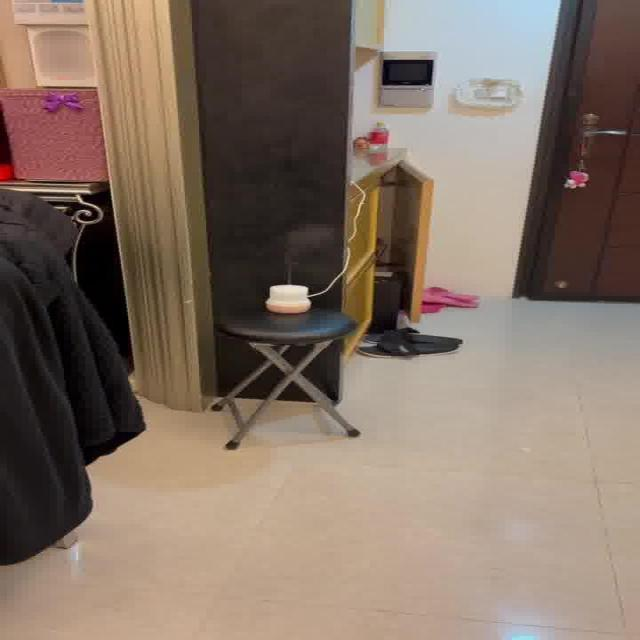fire: (279, 224, 333, 278)
